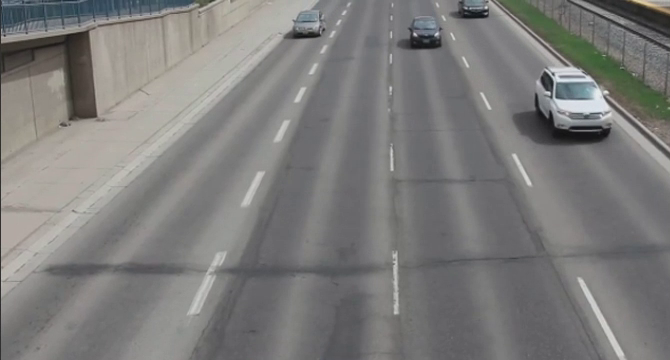car: (532, 65, 620, 143), (404, 13, 448, 50), (285, 9, 332, 37), (455, 1, 494, 17)
